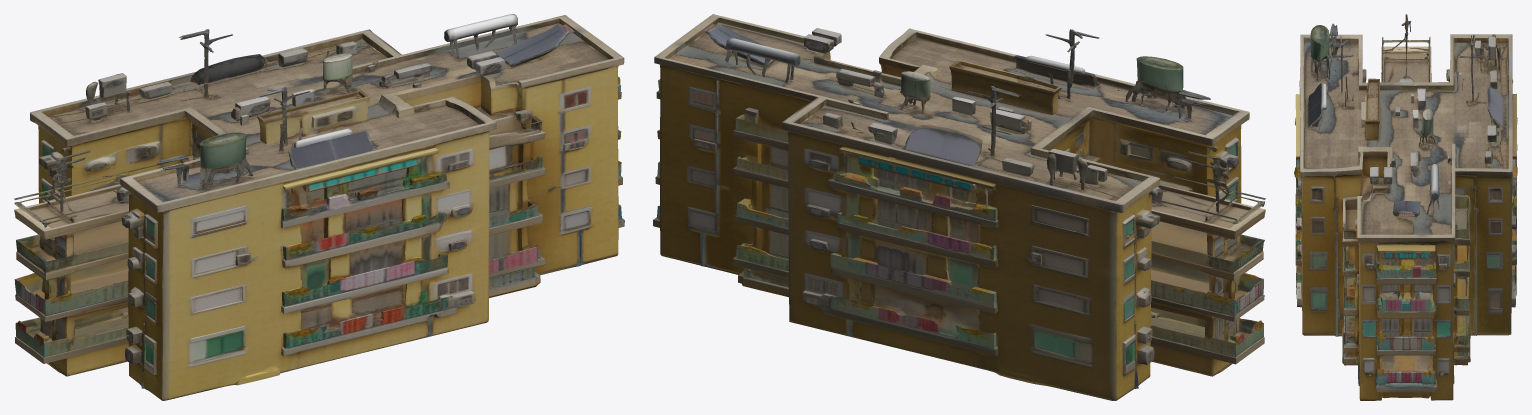
The model's file is r3_shikun_stepped.glb.
The picture shows the model from 3 angles, left to right: view 1: azimuth 30°, elevation 25°; view 2: azimuth 150°, elevation 25°; view 3: azimuth 270°, elevation 25°; orthographic projection. The views are drawn at different scales.
Visible parts, largest first — view 1: geometry_0; view 2: geometry_0; view 3: geometry_0.
Boxes of the visible parts, x1,y1,x2,y2 form: geometry_0: (14,14,624,400); geometry_0: (653,14,1265,400); geometry_0: (1294,14,1517,400).
Bounding box in the file's own units: 29.89 × 13 × 12.
Materials: 1 (1 with a texture image).
